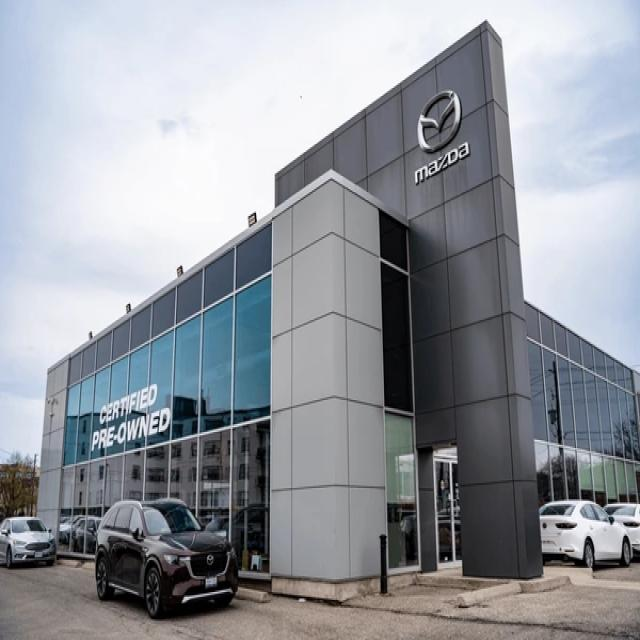mazda: (411, 87, 468, 156)
